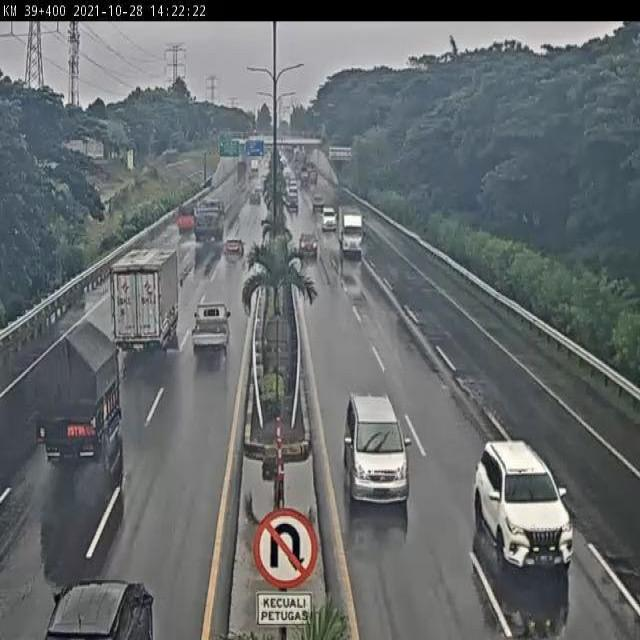car: (469, 438, 574, 566), (341, 390, 414, 510), (190, 302, 232, 358), (321, 204, 337, 229)
truck-l-: (109, 246, 182, 354), (191, 200, 225, 249)
truck-m-: (35, 323, 121, 469)
truck-s-: (338, 200, 367, 256), (175, 204, 196, 233)
